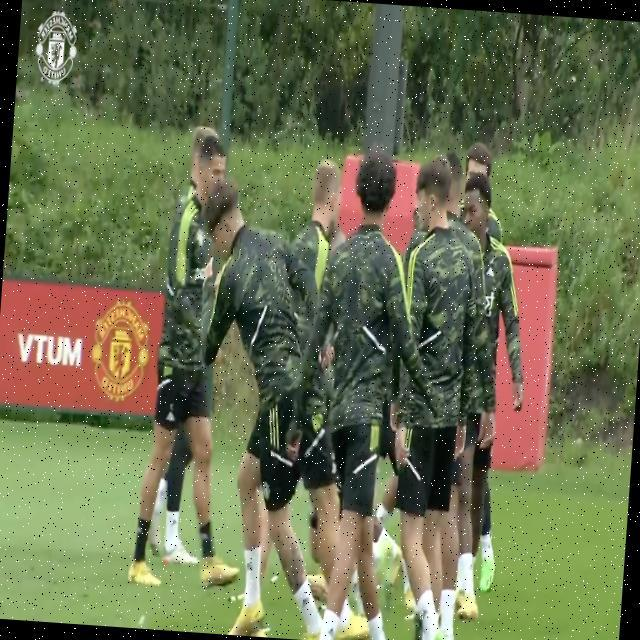Adidas: (299, 591, 309, 610), (244, 557, 255, 573), (419, 605, 429, 622), (485, 263, 494, 277)
